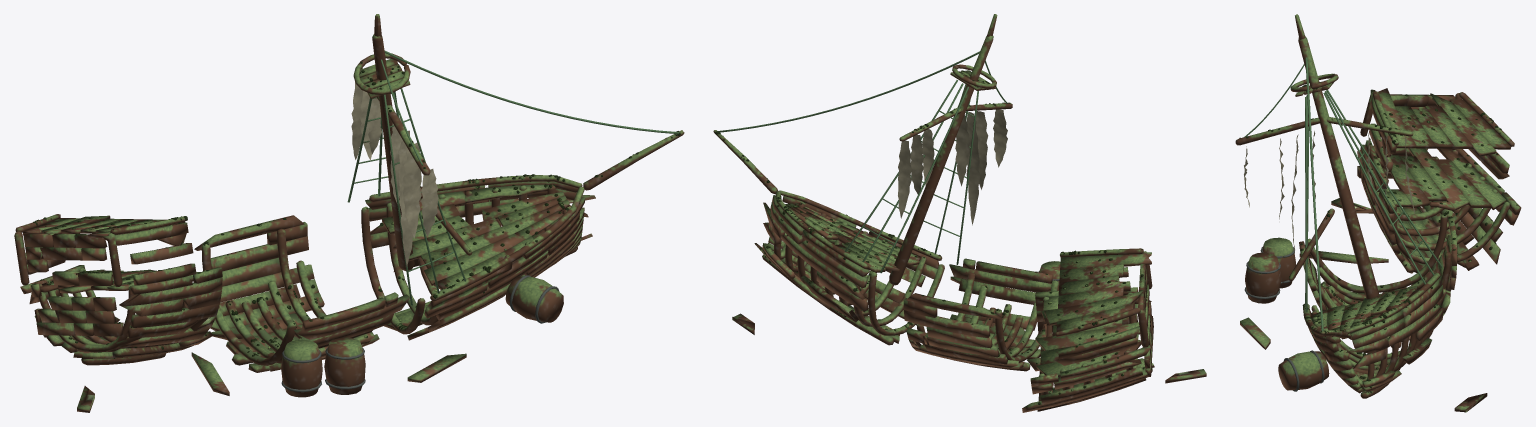
Rendered from Shipwreck.fbx.
3 renders of one model, left to right at view 1: azimuth 30°, elevation 25°; view 2: azimuth 150°, elevation 25°; view 3: azimuth 270°, elevation 25°, orthographic. The views are drawn at different scales.
Parts seen in each view (by area): view 1: Shipwreck, Shipwreck_Sail; view 2: Shipwreck, Shipwreck_Sail; view 3: Shipwreck, Shipwreck_Sail.
Part boxes in pixels (box(x1,y1,x2,y2)): Shipwreck: box(14, 14, 684, 412); Shipwreck_Sail: box(351, 82, 438, 266); Shipwreck: box(713, 14, 1206, 412); Shipwreck_Sail: box(898, 109, 1007, 225); Shipwreck: box(1235, 14, 1521, 412); Shipwreck_Sail: box(1244, 131, 1414, 252).
Size of the model in its own units: 9.55 by 5.67 by 4.51.
